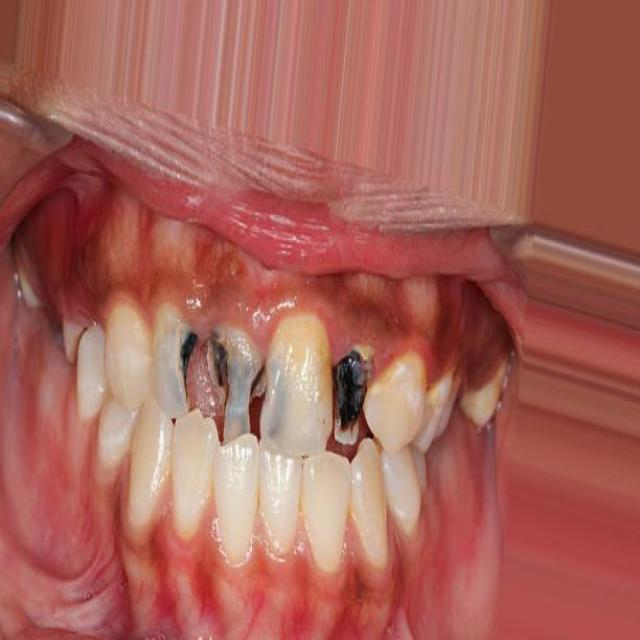caries: (204, 318, 270, 450), (145, 306, 201, 426), (328, 338, 379, 456)
